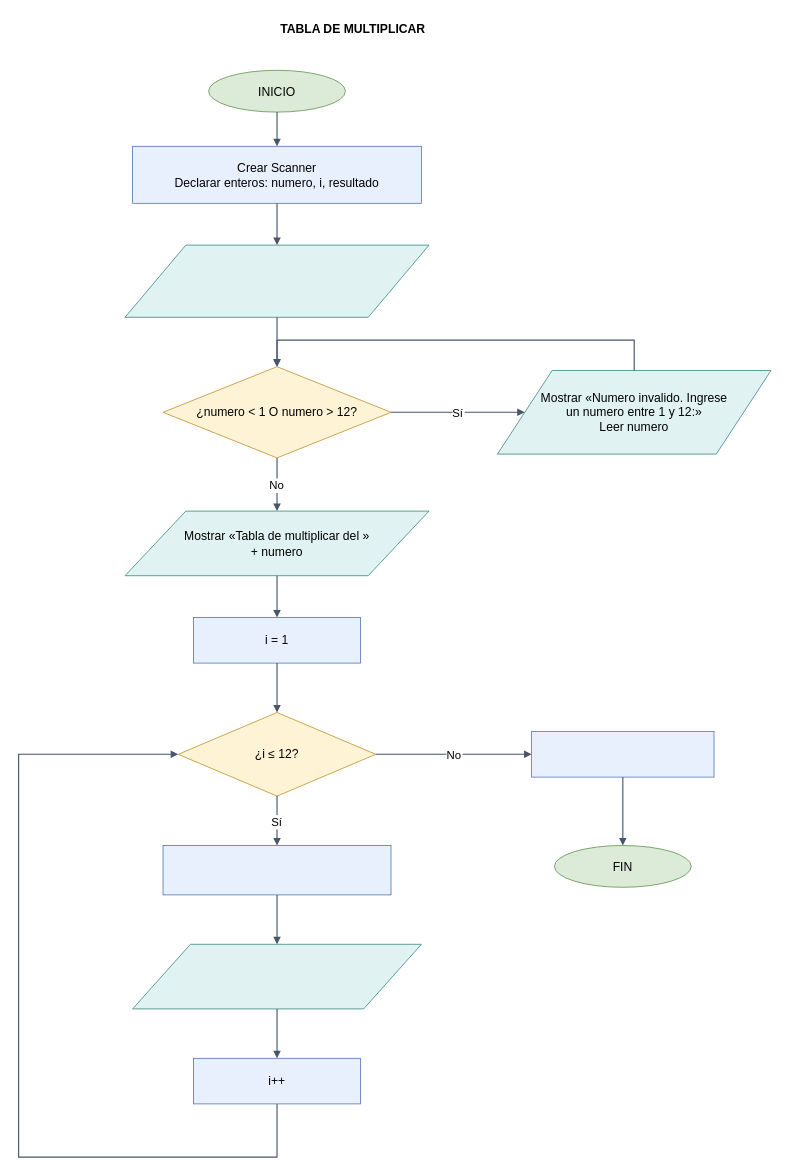
This 785x1176 diagram has some shape labels left out. Here are the shapes that lost their labels. From the top down, the centre of each, then its label:
At (x=276, y=280): "Mostrar «Ingrese un numero entero entre 1 y 12:» Leer numero".
At (x=622, y=754): "scanner.close()".
At (x=276, y=870): "resultado = numero * i".
At (x=276, y=976): "Mostrar numero + « x » + i + « = » + resultado".
